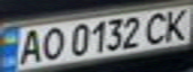0: (66, 21, 90, 56)
1: (87, 18, 109, 53)
2: (121, 14, 148, 48)
3: (103, 16, 127, 52)
A: (12, 27, 48, 65)
C: (139, 10, 175, 45)
K: (157, 6, 193, 42)
O: (36, 26, 66, 62)
